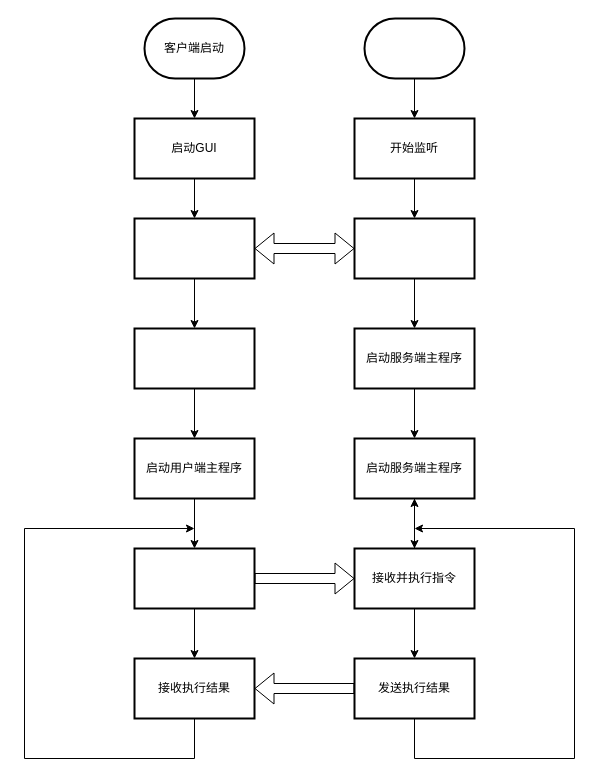
This 600x784 diagram has some shape labels left out. The centre of each missing label's shape, as x and y in pixels:
"发送命令" belongs at point (194, 578).
"启动客户端主程序" belongs at point (194, 358).
"建立连接" belongs at point (414, 248).
"服务器启动" belongs at point (414, 48).
"请求连接" belongs at point (194, 248).
